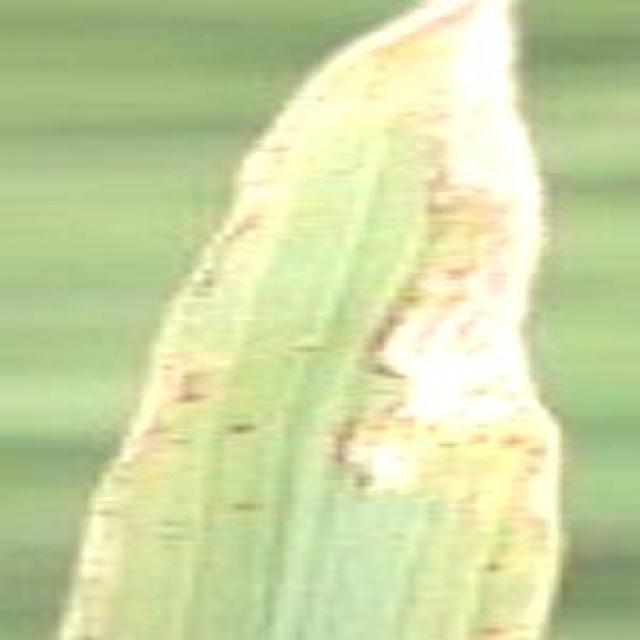Rice_Bacterial_Blight: (156, 6, 554, 634)
